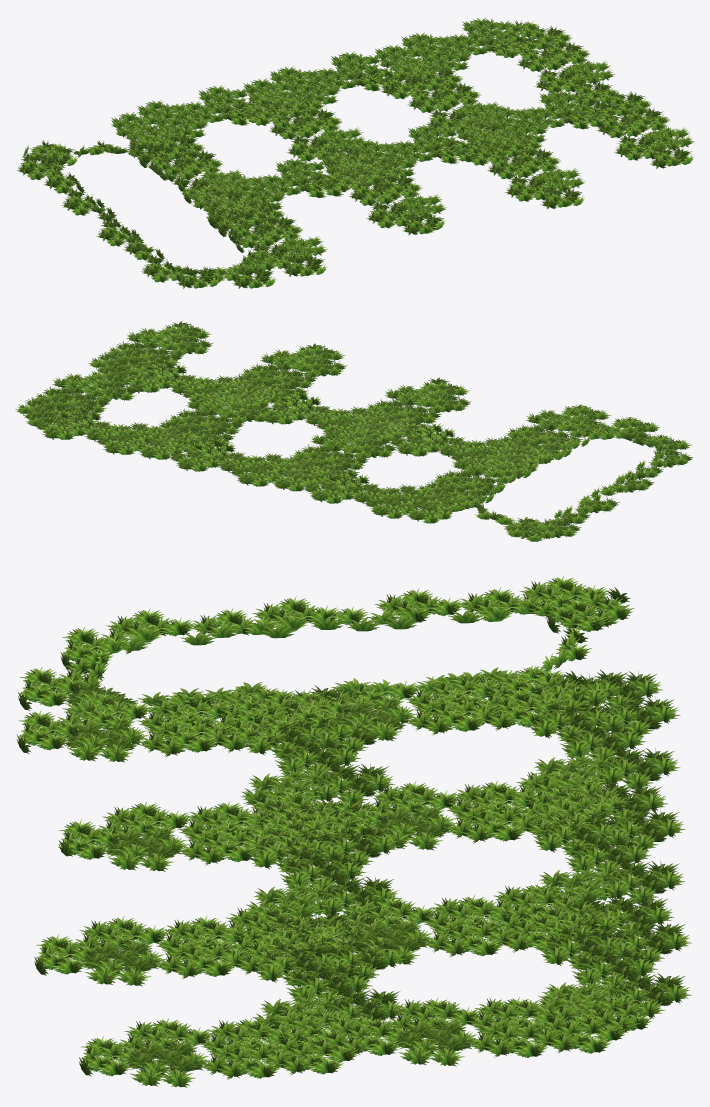
Rendered from pastito_huerta.glb.
3 views of the same model, one above another, from view 1: azimuth 30°, elevation 25°; view 2: azimuth 150°, elevation 25°; view 3: azimuth 270°, elevation 25° (orthographic). The views are drawn at different scales.
Visible parts, largest first — view 1: pasto huerta 1, pasto huerta 2; view 2: pasto huerta 1, pasto huerta 2; view 3: pasto huerta 1, pasto huerta 2.
Boxes of the visible parts, left/top/right/bottom form: pasto huerta 1: left=16, top=17, right=693, bottom=288; pasto huerta 2: left=18, top=18, right=694, bottom=288; pasto huerta 1: left=15, top=321, right=693, bottom=541; pasto huerta 2: left=18, top=322, right=689, bottom=541; pasto huerta 1: left=16, top=575, right=691, bottom=1087; pasto huerta 2: left=17, top=577, right=688, bottom=1087.
Size of the model in its own units: 21.1 by 1.37 by 12.66.
Materials: 1 (1 with a texture image).
